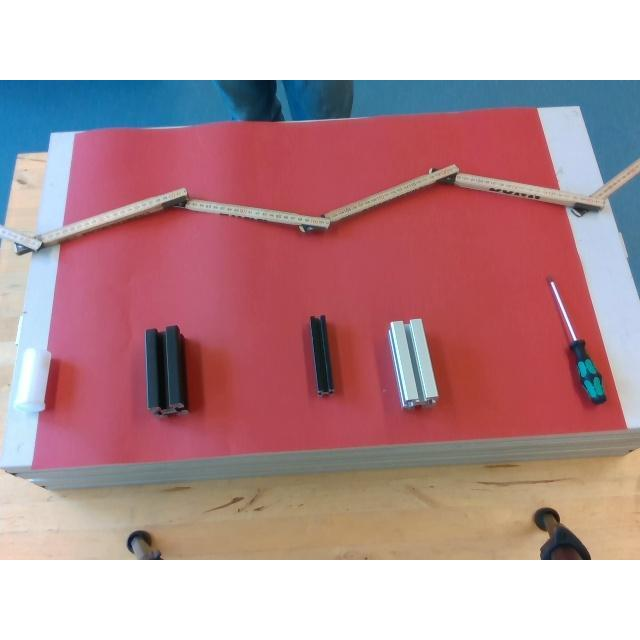F20_20_B: (311, 317, 334, 393)
S40_40_B: (145, 326, 187, 414)
S40_40_G: (389, 318, 437, 407)
Screwdriver: (544, 272, 608, 404)
Spacer: (12, 348, 52, 416)
